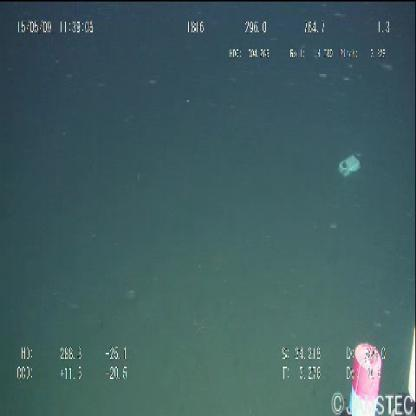Rác: (338, 156, 362, 179)
